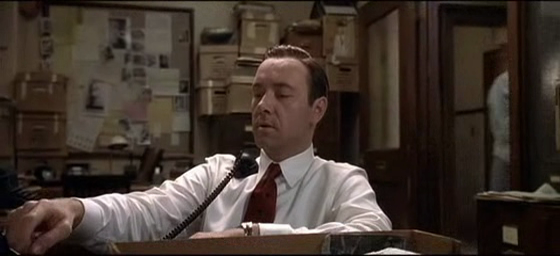face: (250, 64, 309, 149)
mcu: (1, 1, 560, 256)
person: (1, 43, 392, 256)
